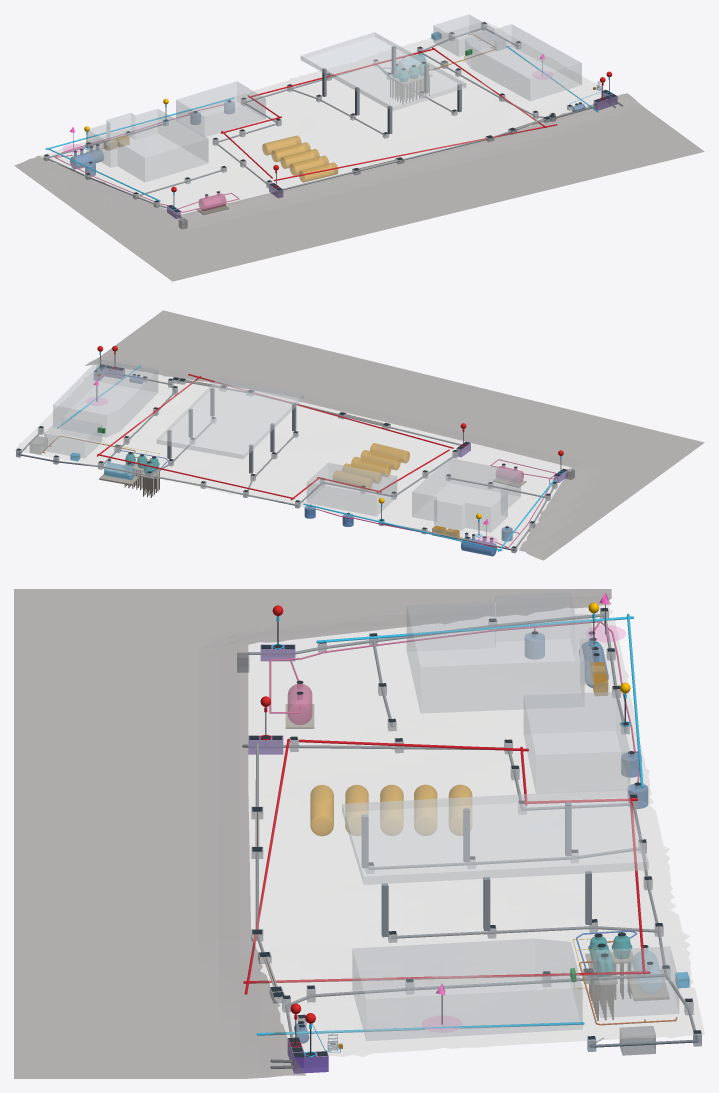
3 views of the same model, one above another, from view 1: azimuth 30°, elevation 25°; view 2: azimuth 150°, elevation 25°; view 3: azimuth 270°, elevation 25° (orthographic). The views are drawn at different scales.
Visible parts, largest first — view 1: Forecourt and paving, Highway 4024 and entrances, Pump canopy, KFC, Mart and office, Middle building, Toilets, Canopy columns, G2.1 water route (final design), Site drain: along the road edge to the middle outlet, Site drain: north side to the middle outlet, Piles under the tanks (+2 smaller); view 2: Forecourt and paving, Highway 4024 and entrances, Pump canopy, KFC, Mart and office, Middle building, Toilets, G2.1 water route (final design) (×2), Canopy columns, Site drain: north side to the middle outlet, Piles under the tanks, Site drain: north-east and east side (takes the treated wate (+6 smaller); view 3: Forecourt and paving, Highway 4024 and entrances, Pump canopy, Mart and office, KFC, Middle building, Toilets, G2.1 water route (final design) (×3), Canopy columns, G2.2 water route (final design) (×2), Site drain: north-east and east side (takes the treated wate, Site drain: north side to the middle outlet (+11 smaller).
Part boxes in pixels (x1,y1,x2,y2): Forecourt and paving: [39, 21, 611, 214]; Highway 4024 and entrances: [14, 93, 704, 281]; Pump canopy: [300, 32, 466, 110]; KFC: [88, 109, 208, 181]; Mart and office: [465, 24, 581, 100]; Middle building: [176, 81, 265, 136]; Toilets: [433, 14, 494, 56]; Canopy columns: [322, 46, 461, 134]; G2.1 water route (final design): [273, 124, 557, 181]; Site drain: along the road edge to the middle outlet: [283, 119, 548, 189]; Site drain: north side to the middle outlet: [215, 77, 328, 195]; Piles under the tanks: [390, 77, 429, 103]; Forecourt and paving: [14, 366, 570, 549]; Highway 4024 and entrances: [85, 310, 704, 560]; Pump canopy: [156, 379, 303, 459]; KFC: [412, 458, 520, 532]; Mart and office: [53, 359, 157, 437]; Middle building: [307, 463, 396, 515]; Toilets: [44, 417, 101, 458]; G2.1 water route (final design) (×2): [97, 374, 453, 499]; Canopy columns: [167, 387, 296, 473]; Site drain: north side to the middle outlet: [203, 446, 467, 506]; Piles under the tanks: [124, 469, 159, 497]; Site drain: north-east and east side (takes the treated wate: [101, 374, 202, 485]; Forecourt and paving: [248, 604, 704, 1056]; Highway 4024 and entrances: [14, 589, 611, 1078]; Pump canopy: [342, 788, 648, 884]; Mart and office: [352, 939, 582, 1040]; KFC: [407, 592, 593, 713]; Middle building: [524, 692, 629, 793]; Toilets: [591, 946, 678, 1017]; G2.1 water route (final design) (×3): [243, 738, 650, 994]; Canopy columns: [361, 802, 591, 937]; G2.2 water route (final design) (×2): [256, 616, 633, 1035]; Site drain: north-east and east side (takes the treated wate: [285, 884, 666, 1037]; Site drain: north side to the middle outlet: [242, 744, 648, 883].
Size of the model in its own units: 113 by 12.96 by 67.39.
